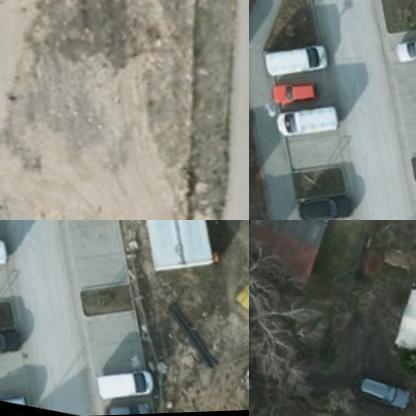car: (347, 371, 410, 415), (260, 77, 322, 118), (290, 190, 350, 219), (93, 387, 151, 415), (387, 33, 415, 74), (0, 324, 19, 371), (0, 388, 25, 409)
van: (254, 28, 332, 90), (79, 352, 152, 415), (266, 98, 348, 152), (0, 231, 17, 287)
